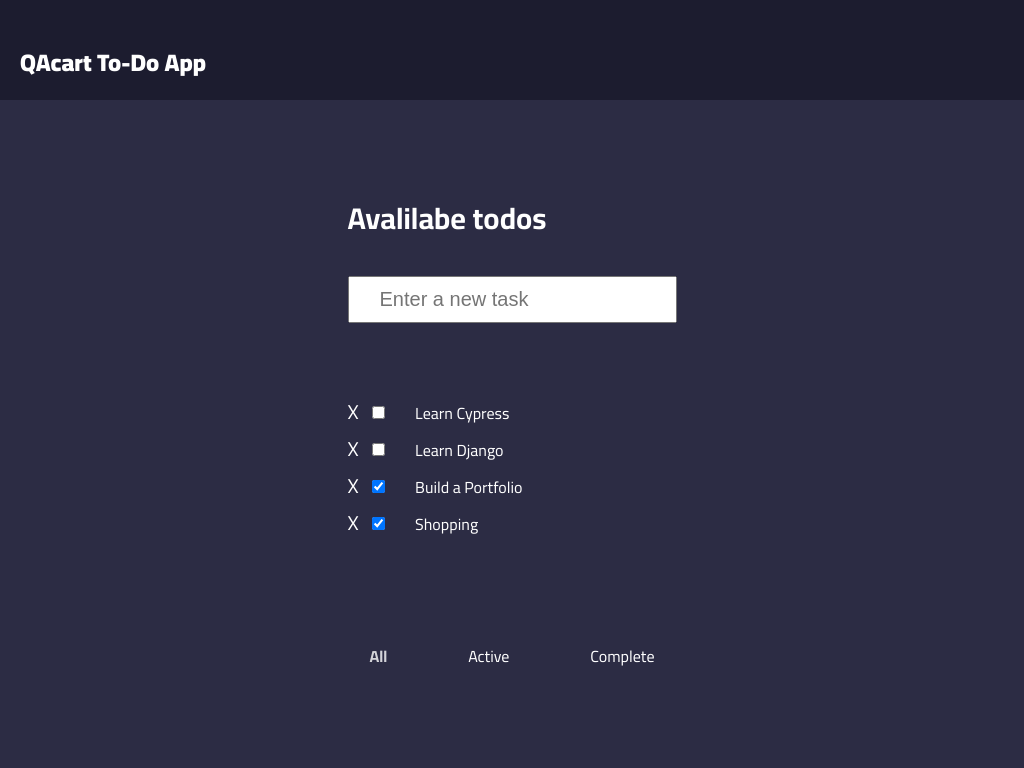
Test: filter functionality test case › should filter out the complete todos correctly
The image size is (1024, 768).
Click the link "Complete" at (622, 656), box [588,641,656,671]
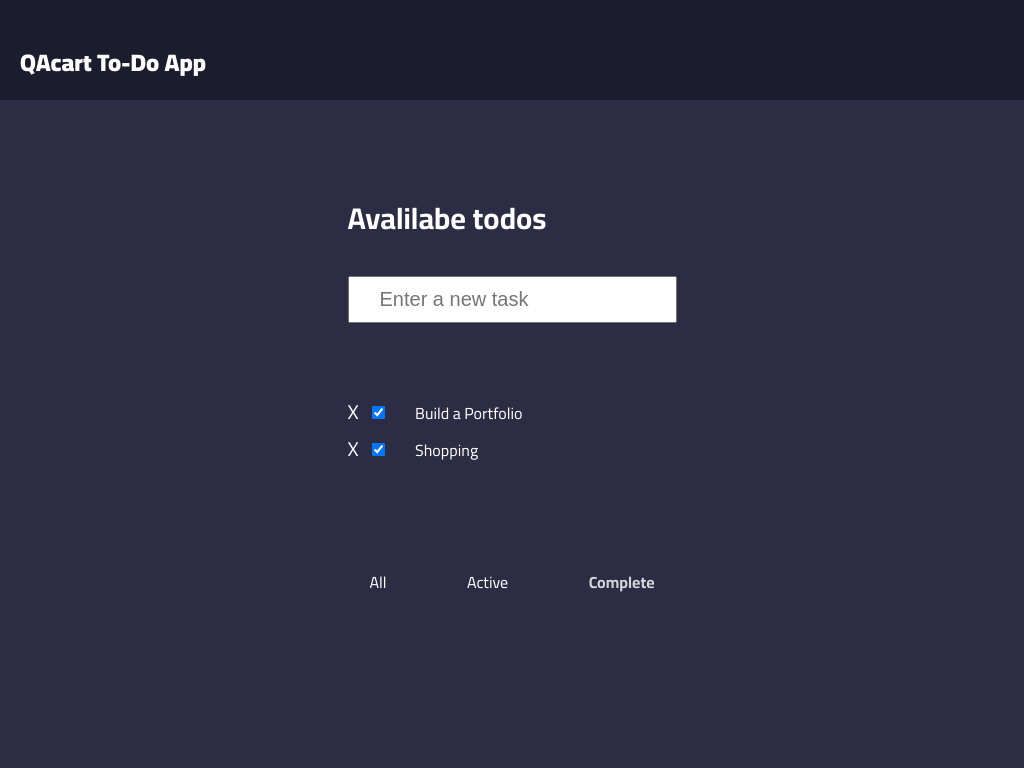
Check: the checkbox with class "todo-checkbox" next to "Build a Portfolio" is checked, box [372,406,385,419]
Check: the checkbox with class "todo-checkbox" next to "Shopping" is checked, box [372,443,385,456]
